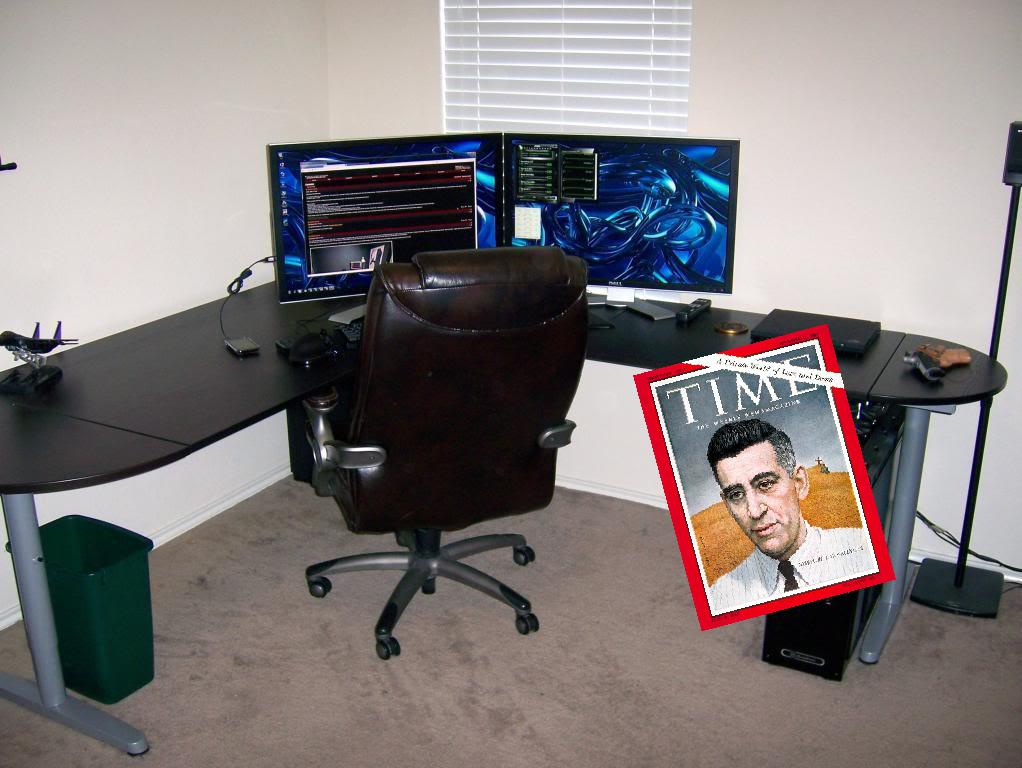times: (631, 322, 898, 637)
